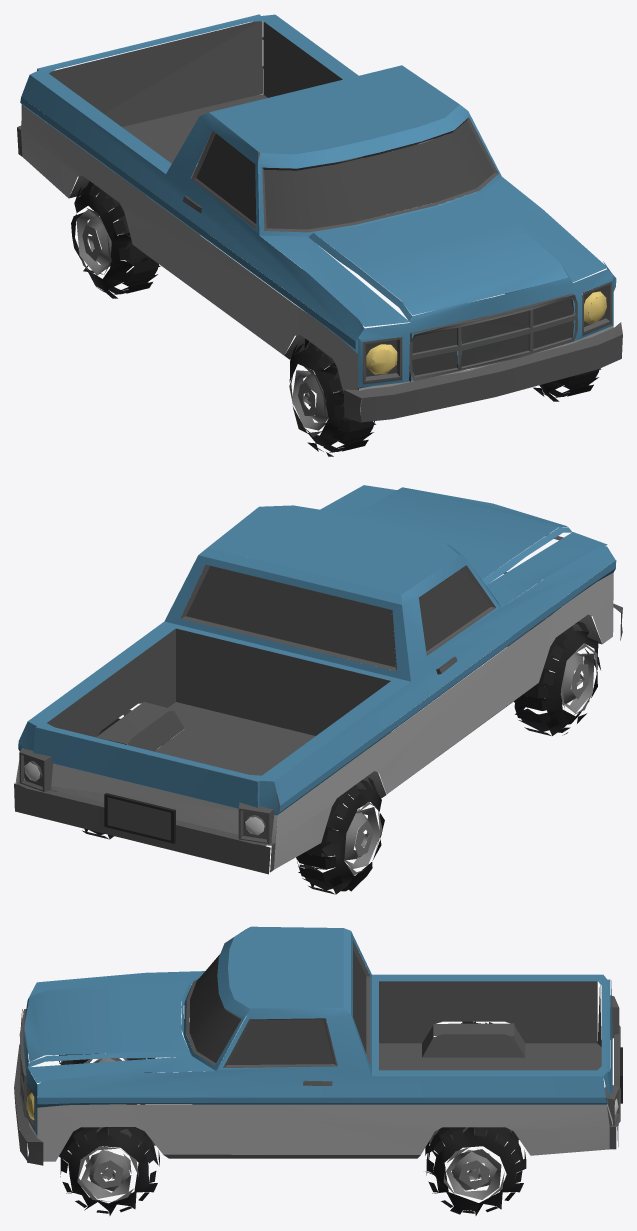
The model's file is pickup_truck.glb.
3 renders of one model, top to bottom at view 1: azimuth 30°, elevation 25°; view 2: azimuth 150°, elevation 25°; view 3: azimuth 270°, elevation 25°, orthographic. The views are drawn at different scales.
Parts seen in each view (by area): view 1: Pickup, BackWheels, FrontWheel_R, FrontWheel_L; view 2: Pickup, BackWheels, FrontWheel_R; view 3: Pickup, BackWheels, FrontWheel_L.
Part boxes in pixels (x1=…): Pickup: x1=17, y1=14, x2=622, y2=422; BackWheels: x1=71, y1=181, x2=160, y2=298; FrontWheel_R: x1=289, y1=338, x2=375, y2=456; FrontWheel_L: x1=533, y1=295, x2=601, y2=401; Pickup: x1=14, y1=485, x2=622, y2=874; BackWheels: x1=82, y1=718, x2=384, y2=894; FrontWheel_R: x1=514, y1=613, x2=600, y2=735; Pickup: x1=14, y1=926, x2=622, y2=1165; BackWheels: x1=425, y1=1021, x2=526, y2=1215; FrontWheel_L: x1=59, y1=1127, x2=159, y2=1215.
Bounding box in the file's own units: 2.31 × 1.87 × 5.18.
Materials: 3 (1 with a texture image).
